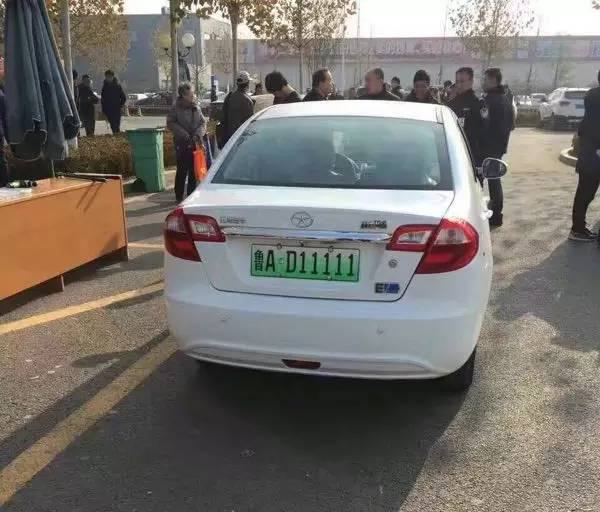car: (161, 92, 510, 379)
person: (459, 59, 515, 181), (564, 80, 598, 251), (167, 68, 203, 192), (443, 62, 488, 157), (186, 74, 222, 184), (215, 73, 254, 163), (94, 65, 132, 140), (349, 57, 391, 99), (79, 72, 103, 136), (274, 67, 300, 118), (309, 65, 336, 113), (404, 68, 434, 107)
